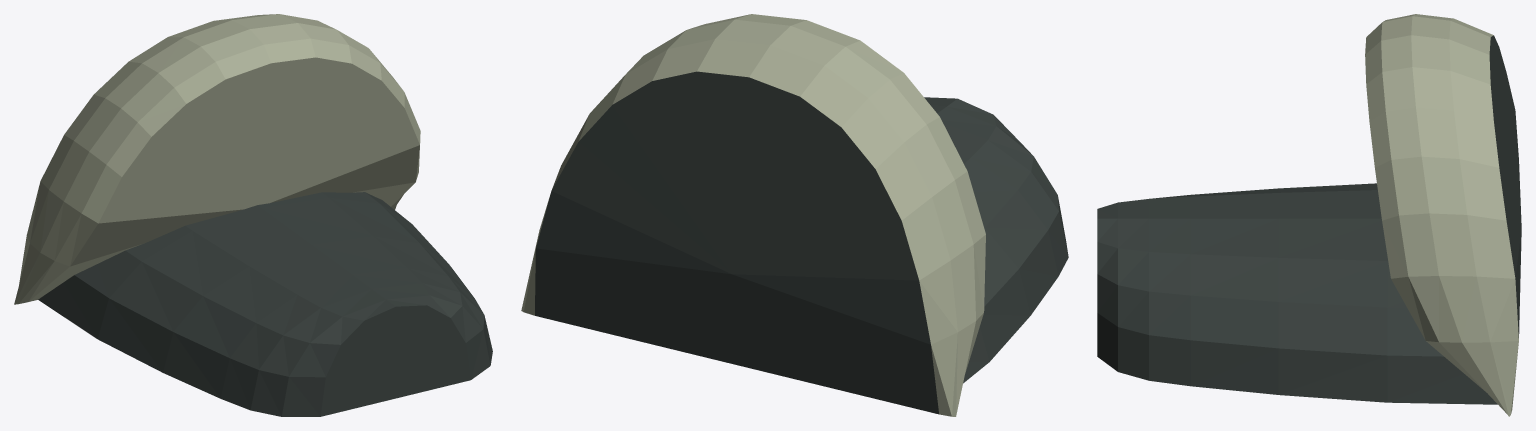
File: centipede.obj
3 renders of one model, left to right at view 1: azimuth 30°, elevation 25°; view 2: azimuth 150°, elevation 25°; view 3: azimuth 270°, elevation 25°, orthographic. The views are drawn at different scales.
Visible parts, largest first — view 1: centipede; view 2: centipede; view 3: centipede.
Part boxes in pixels (box(x1,y1,x2,y2)): centipede: box(14, 14, 492, 416); centipede: box(521, 14, 1068, 416); centipede: box(1097, 14, 1521, 416).
Size of the model in its own units: 1.82 by 1.2 by 1.64.
